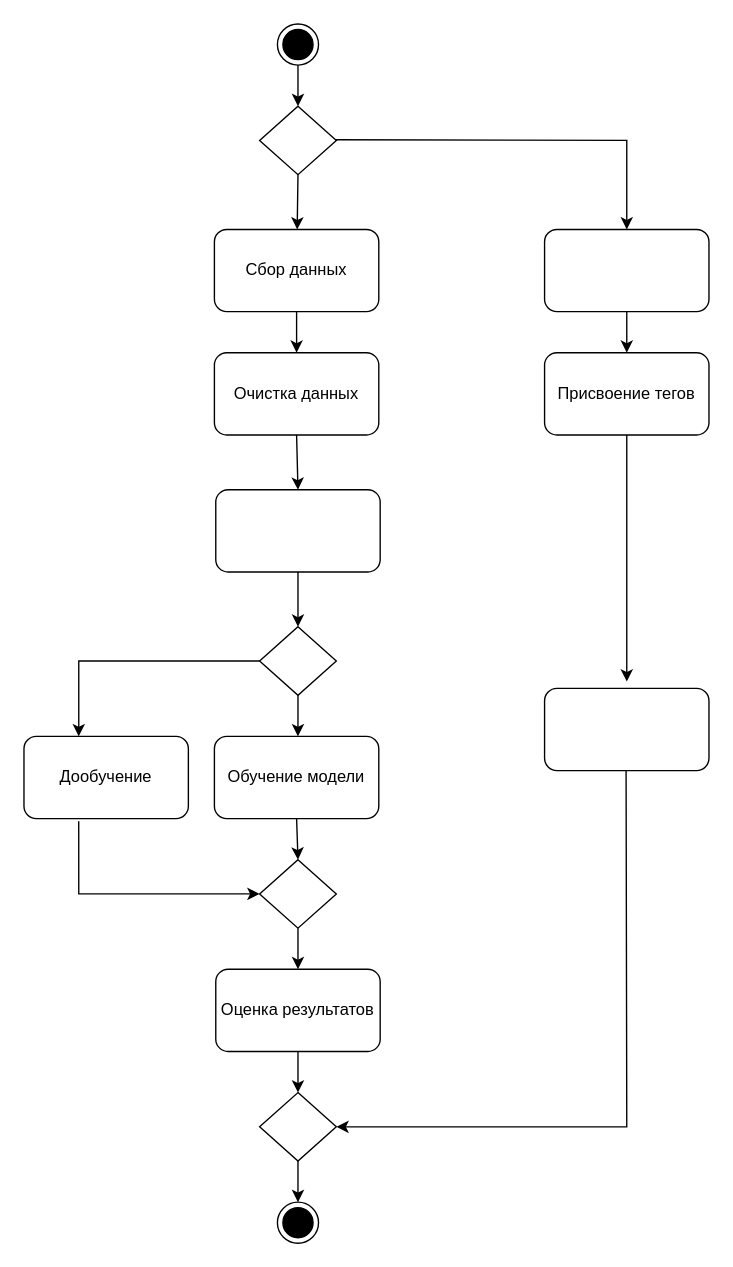
The diagram is 733 pixels wide and 1267 high, and some of its shapes have lost their labels. Each missing label, with the centre of its shape:
"Выдача результатов" belongs at [626,729].
"Обработка запроса" belongs at [626,270].
"Сохранение к кеш гитхаба" belongs at [297,530].
